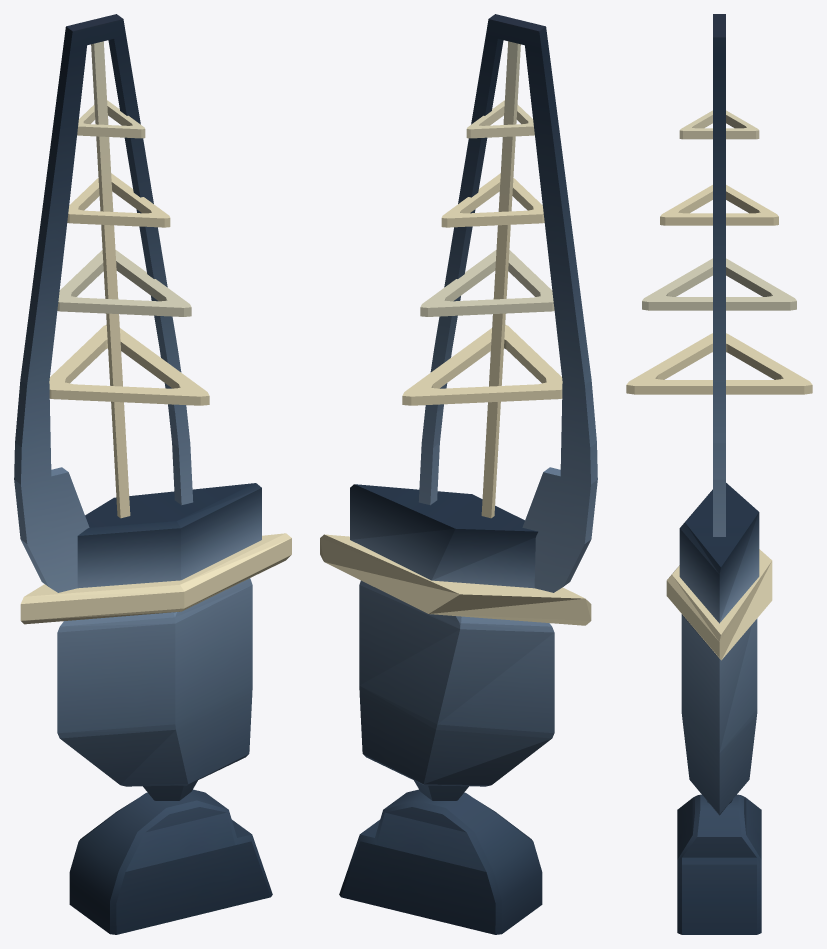
The model's file is ENV_Decoration_02.FBX.
3 renders of one model, left to right at view 1: azimuth 30°, elevation 25°; view 2: azimuth 150°, elevation 25°; view 3: azimuth 270°, elevation 25°, orthographic. The views are drawn at different scales.
Parts seen in each view (by area): view 1: ENV_Decoration_02; view 2: ENV_Decoration_02; view 3: ENV_Decoration_02.
Boxes of the visible parts, bbox=[...] form: ENV_Decoration_02: bbox=[14, 14, 291, 934]; ENV_Decoration_02: bbox=[320, 14, 597, 934]; ENV_Decoration_02: bbox=[626, 14, 812, 934].
Size of the model in its own units: 371 by 1158 by 233.
Materials: 2 (2 with a texture image).
